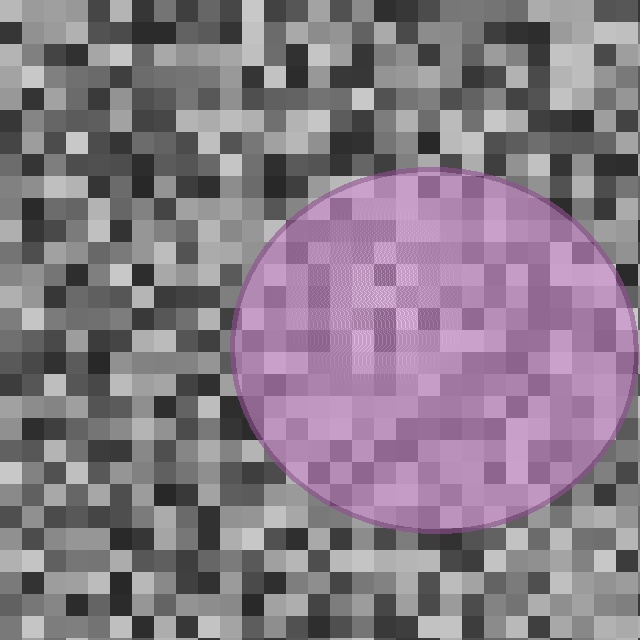lens: (232, 169, 636, 531)
